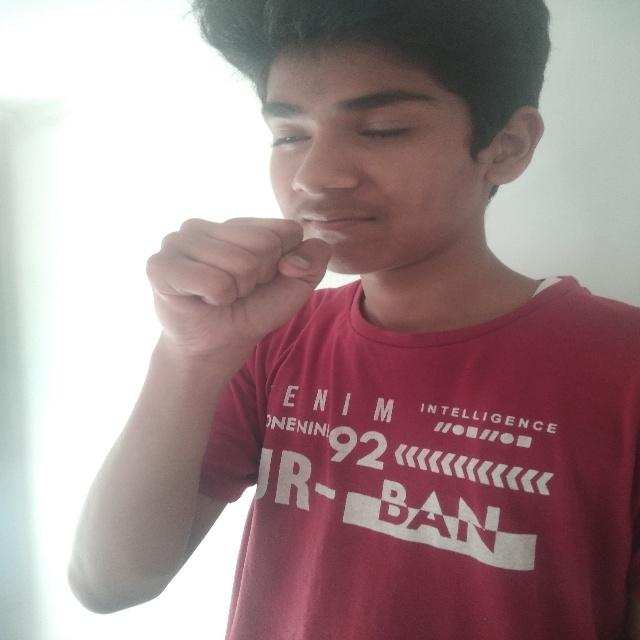Fist Mouth: (131, 13, 518, 373)
